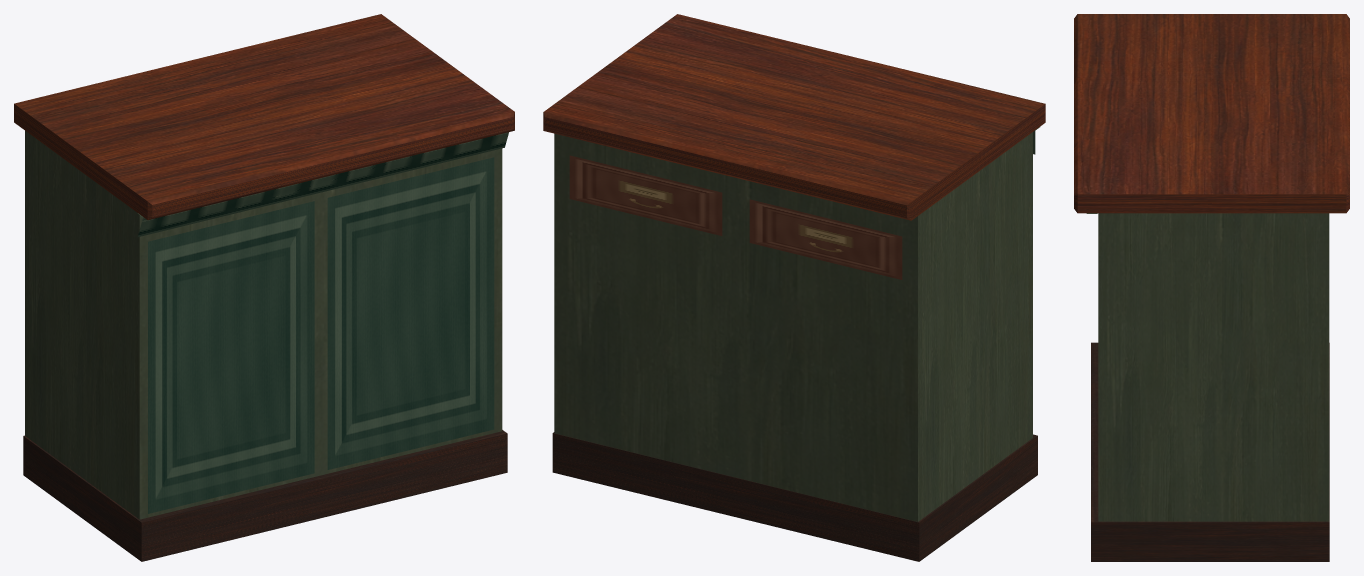
Rendered from city1880-counter.gltf.
3 views of the same model, side by side, from view 1: azimuth 30°, elevation 25°; view 2: azimuth 150°, elevation 25°; view 3: azimuth 270°, elevation 25° (orthographic).
Parts seen in each view (by area): view 1: Paneled sales counter; view 2: Paneled sales counter; view 3: Paneled sales counter.
Part boxes in pixels (x1,y1,x2,y2): Paneled sales counter: (14, 14, 514, 561); Paneled sales counter: (543, 14, 1045, 561); Paneled sales counter: (1074, 14, 1349, 561).
Bounding box in the file's own units: 0.998 × 0.9495 × 0.645.
Materials: 2 (2 with a texture image).
